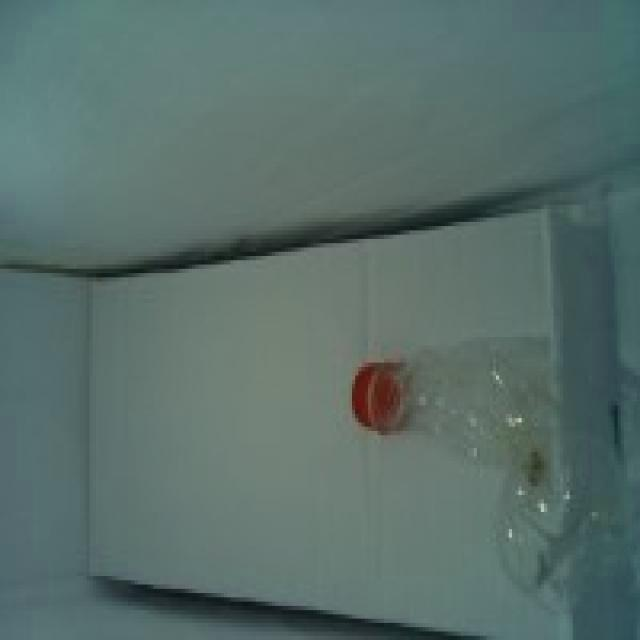bottle: (350, 337, 640, 614)
